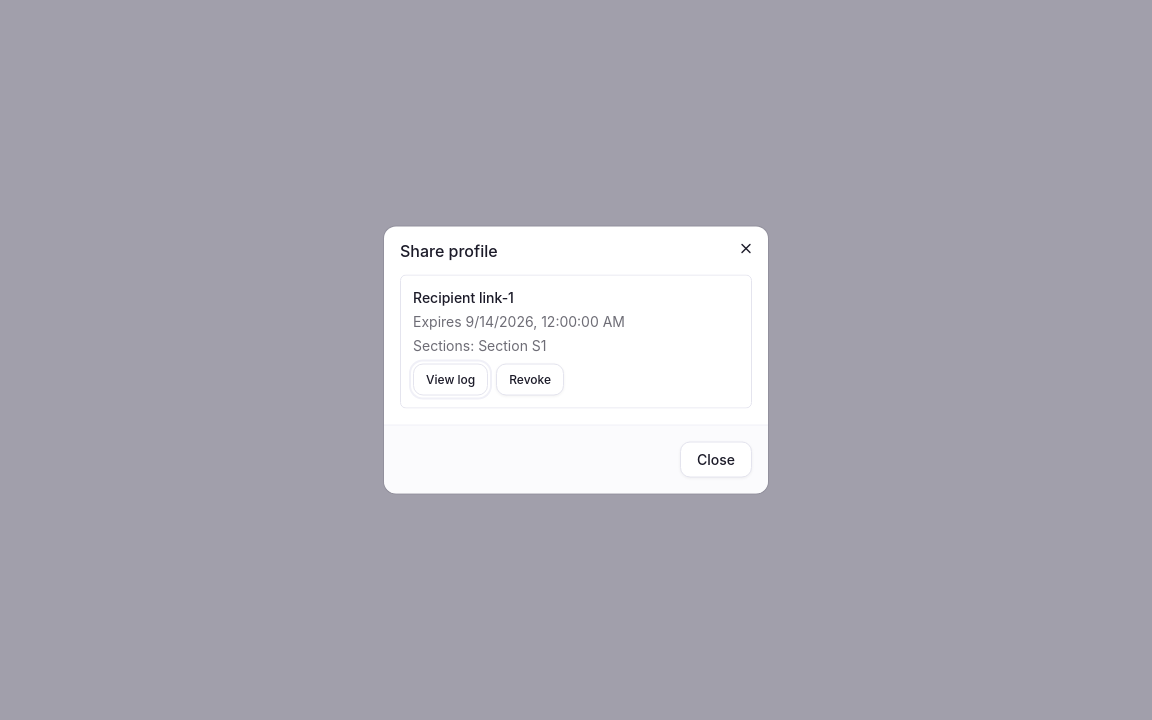
Test case: SharedLinkManagerDialog revoke confirm › revokes on confirm, announces success, and moves focus into the manage panel
Step 1. Click the button with test id "shared-link-revoke-link-1" → (530, 380), box [496,364,564,396]
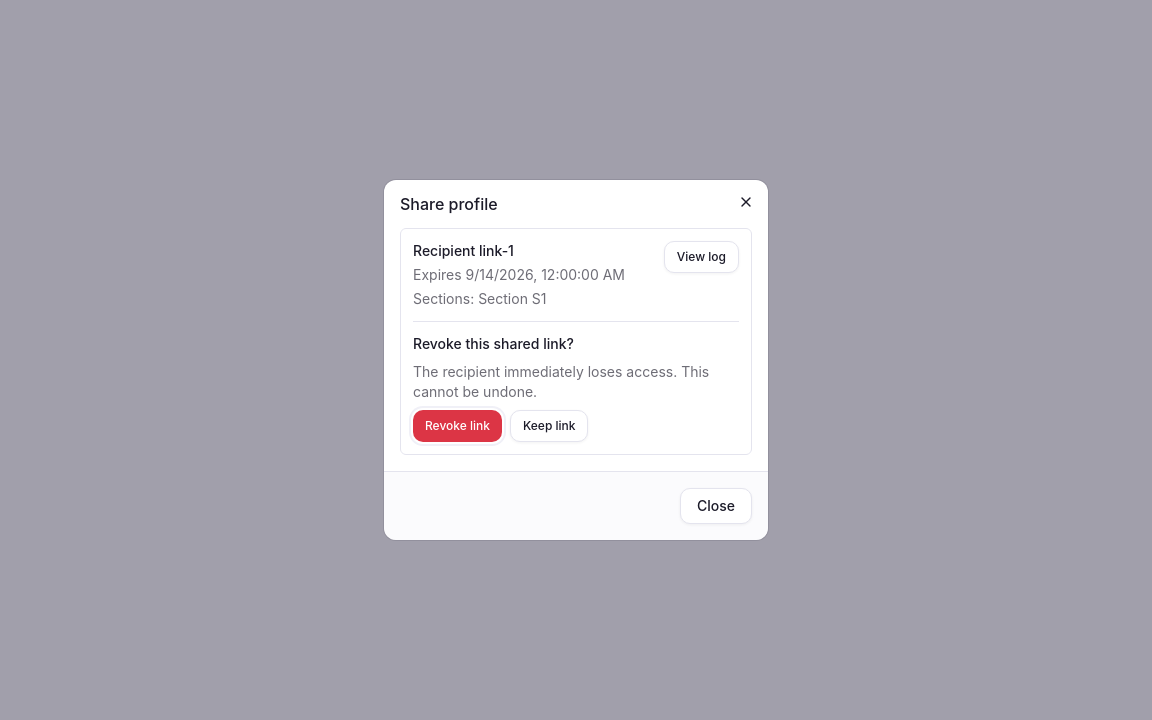
Step 2. Click the button with test id "shared-link-revoke-confirm-button-link-1" → (458, 426), box [413,410,502,442]
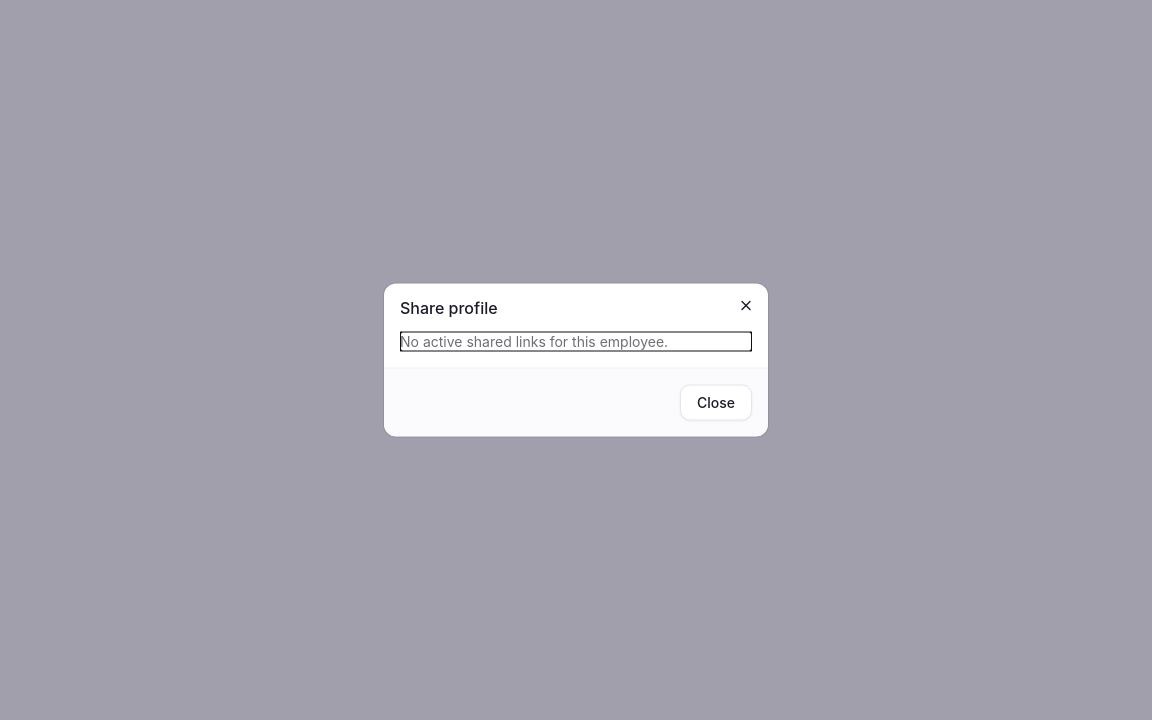
Expected: the list item with test id "shared-link-row-link-1" is gone
